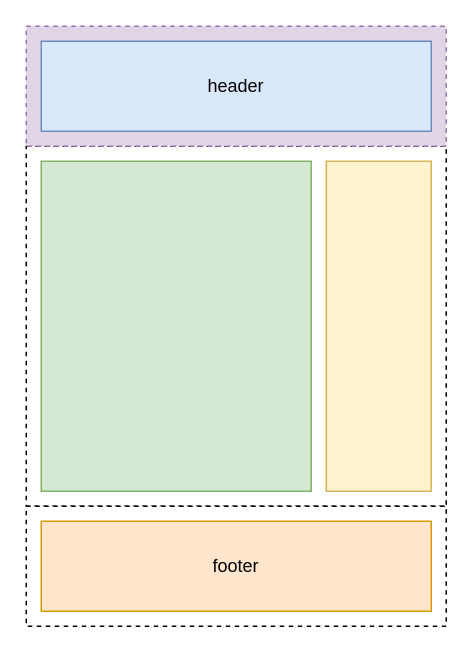
This 473x653 diagram has some shape labels left out. Here are the shapes that lost their labels. From the top down, the box of each, then its label:
(40, 160, 311, 491): content
(325, 160, 431, 491): sidebar
